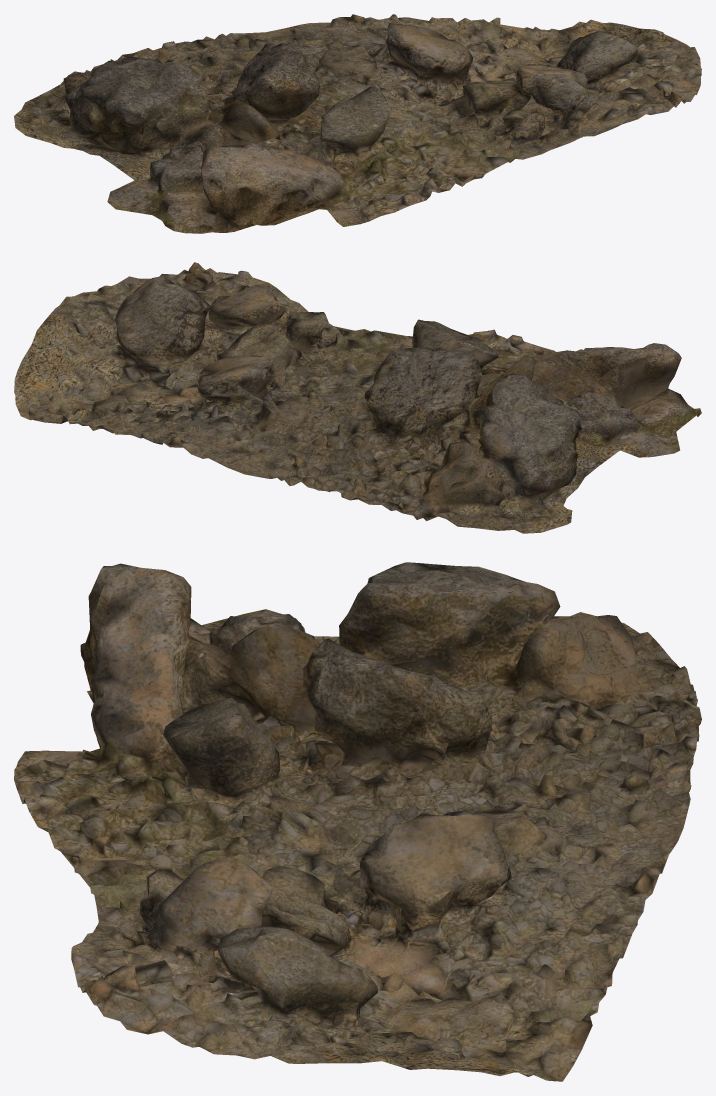
File: land.glb
3 renders of one model, top to bottom at view 1: azimuth 30°, elevation 25°; view 2: azimuth 150°, elevation 25°; view 3: azimuth 270°, elevation 25°, orthographic. The views are drawn at different scales.
Visible parts, largest first — view 1: coast_land_rocks_03; view 2: coast_land_rocks_03; view 3: coast_land_rocks_03.
Boxes of the visible parts, x1,y1,x2,y2 form: coast_land_rocks_03: (14,14,701,233); coast_land_rocks_03: (14,262,701,533); coast_land_rocks_03: (14,562,701,1081).
Bounding box in the file's own units: 8.97 × 1.52 × 5.63.
Materials: 1 (1 with a texture image).
